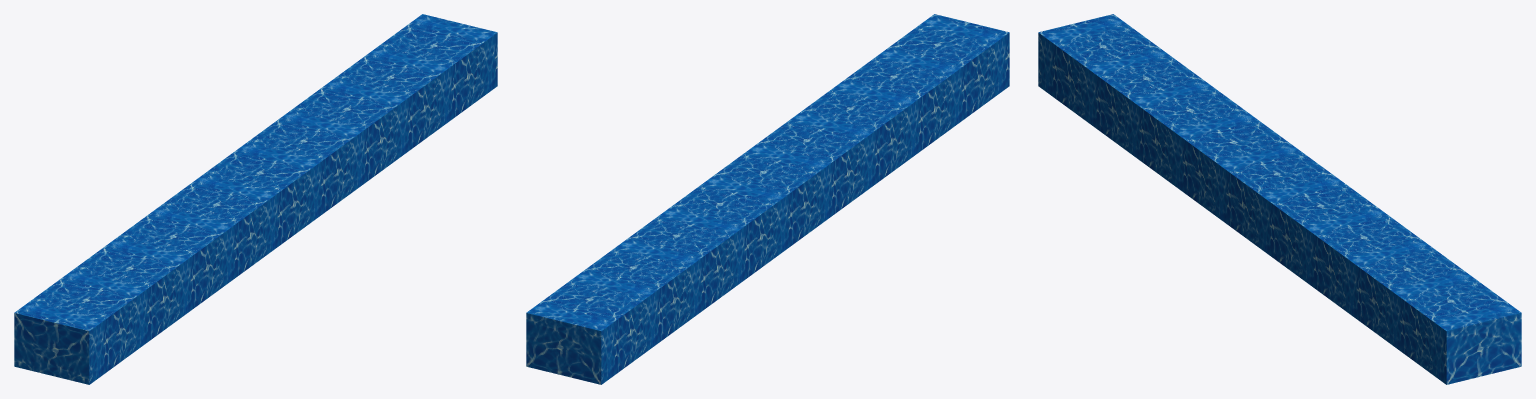
File: shui_huangdigou.obj
3 views of the same model, side by side, from view 1: azimuth 30°, elevation 25°; view 2: azimuth 210°, elevation 25°; view 3: azimuth 270°, elevation 25° (orthographic).
Bounding box in the file's own units: 37.78 × 2.98 × 24.34.
Materials: 1 (1 with a texture image).
